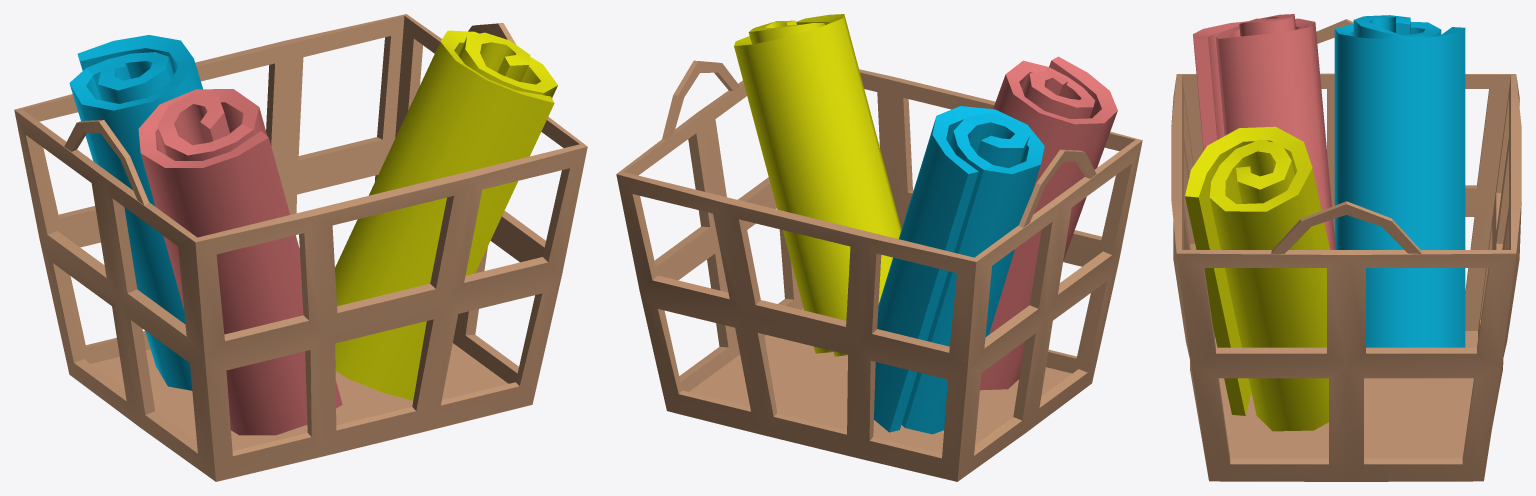
Rendered from Towel_Basket.fbx.
3 renders of one model, left to right at view 1: azimuth 30°, elevation 25°; view 2: azimuth 150°, elevation 25°; view 3: azimuth 270°, elevation 25°, orthographic. The views are drawn at different scales.
Visible parts, largest first — view 1: Towel_basket, Towel, Towel2, Towel1; view 2: Towel_basket, Towel, Towel1, Towel2; view 3: Towel_basket, Towel1, Towel, Towel2.
Part boxes in pixels (<box>): Towel_basket: <box>14,14,587,481</box>; Towel: <box>335,30,557,400</box>; Towel2: <box>138,89,342,435</box>; Towel1: <box>69,35,202,390</box>; Towel_basket: <box>616,60,1142,481</box>; Towel: <box>734,14,901,356</box>; Towel1: <box>874,106,1044,434</box>; Towel2: <box>980,56,1117,390</box>; Towel_basket: <box>1171,19,1521,481</box>; Towel1: <box>1334,15,1465,347</box>; Towel: <box>1185,126,1329,431</box>; Towel2: <box>1193,14,1335,249</box>.
Size of the model in its own units: 2 by 1.67 by 1.6.
